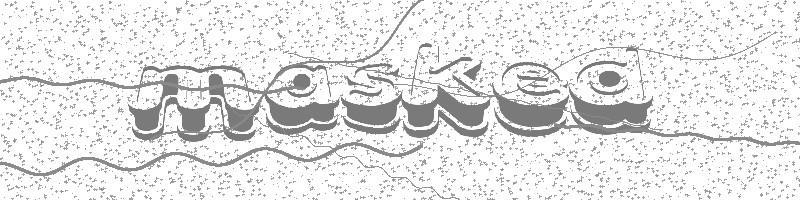a: (267, 64, 339, 134)
d: (570, 47, 653, 133)
e: (494, 63, 570, 137)
k: (402, 43, 490, 136)
m: (129, 66, 259, 141)
s: (342, 63, 401, 133)
